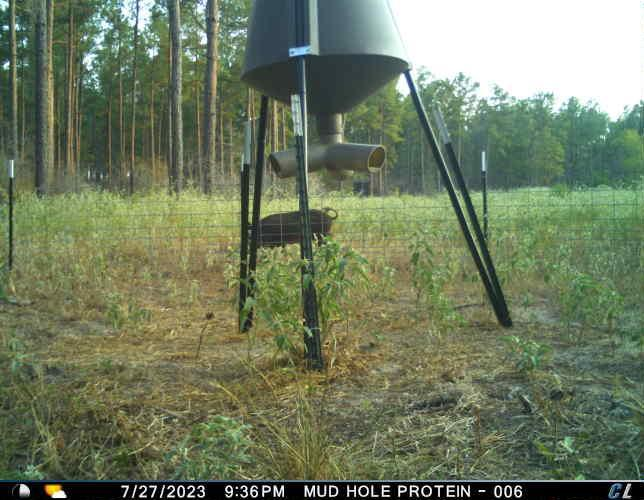Hog: (245, 204, 338, 256)
